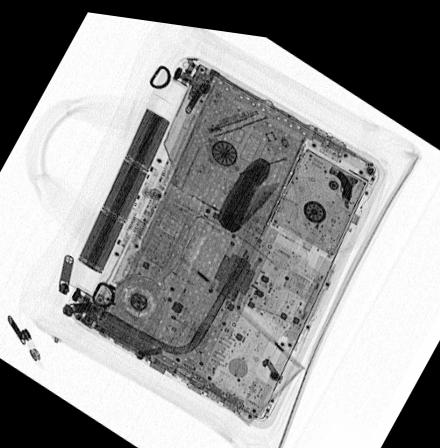Knife: (214, 147, 282, 226)
